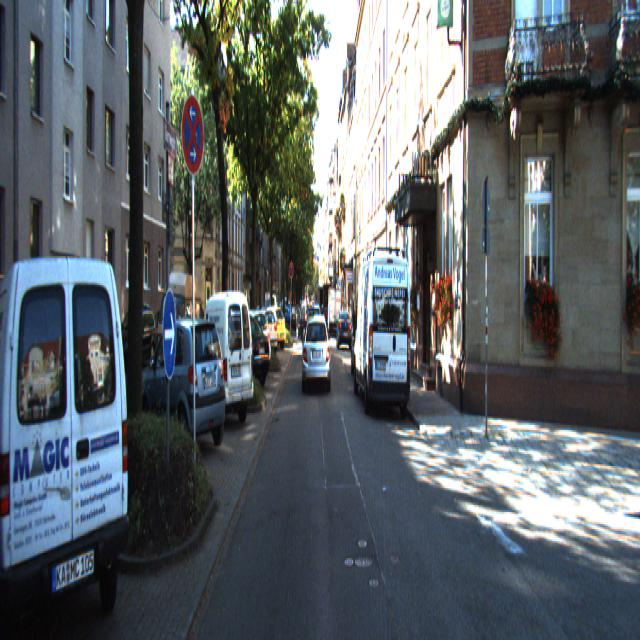Car: (0, 242, 137, 638), (138, 311, 229, 460), (178, 288, 255, 431), (354, 257, 414, 424), (152, 267, 202, 385), (213, 315, 273, 395), (221, 311, 275, 382), (114, 301, 156, 375), (302, 311, 332, 389), (241, 310, 279, 361), (253, 306, 287, 352), (303, 305, 322, 359), (337, 309, 352, 350)
